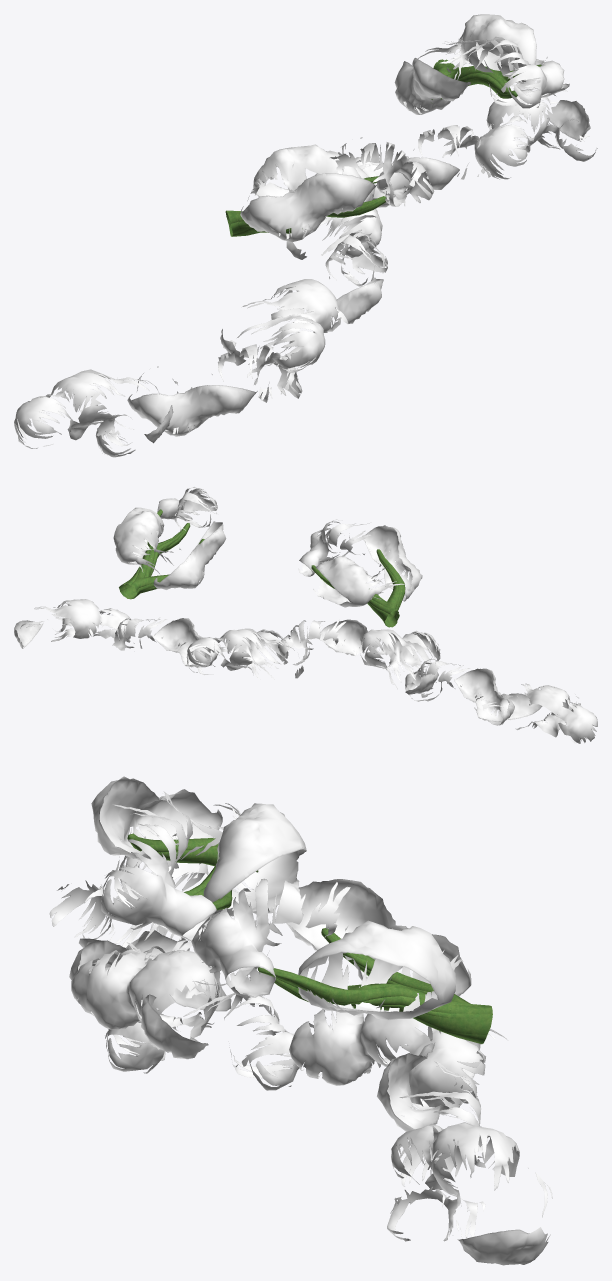
File: SM_ENV_KNFRST_DistanceLeaf_GroupC.FBX
3 views of the same model, one above another, from view 1: azimuth 30°, elevation 25°; view 2: azimuth 150°, elevation 25°; view 3: azimuth 270°, elevation 25° (orthographic). The views are drawn at different scales.
Parts seen in each view (by area): view 1: SM_ENV_KNFRST_DistanceLeaf_GroupC; view 2: SM_ENV_KNFRST_DistanceLeaf_GroupC; view 3: SM_ENV_KNFRST_DistanceLeaf_GroupC.
Boxes of the visible parts, bbox=[...] form: SM_ENV_KNFRST_DistanceLeaf_GroupC: bbox=[14, 14, 597, 457]; SM_ENV_KNFRST_DistanceLeaf_GroupC: bbox=[14, 487, 597, 743]; SM_ENV_KNFRST_DistanceLeaf_GroupC: bbox=[49, 776, 552, 1265].
Bounding box in the file's own units: 11148 × 4205 × 5043.
